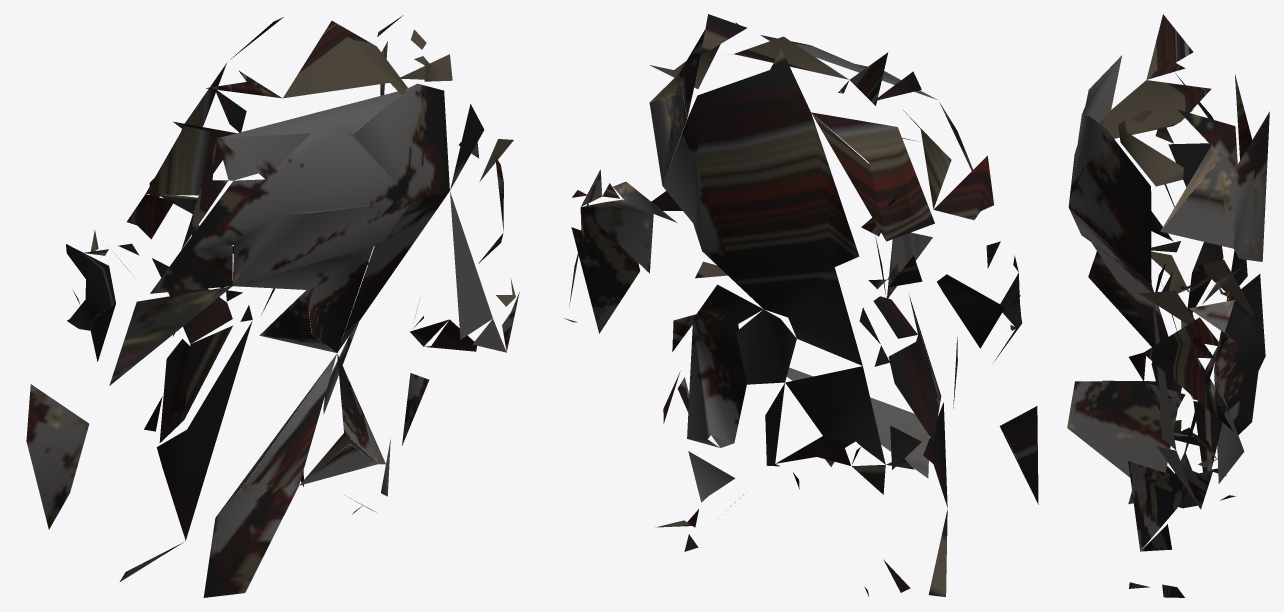
3 views of the same model, side by side, from view 1: azimuth 30°, elevation 25°; view 2: azimuth 150°, elevation 25°; view 3: azimuth 270°, elevation 25° (orthographic). The views are drawn at different scales.
Visible parts, largest first — view 1: body.002; view 2: body.002; view 3: body.002.
Part boxes in pixels (bbox=[...]): body.002: bbox=[26, 15, 519, 597]; body.002: bbox=[563, 14, 1038, 596]; body.002: bbox=[1067, 14, 1269, 597].
Bounding box in the file's own units: 1.94 × 1.94 × 0.7241.
1 material, 1 textured.
